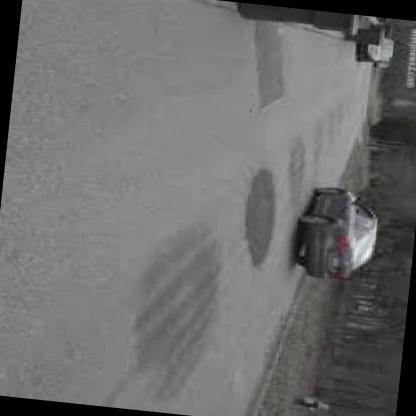manholes: (212, 150, 300, 277)
